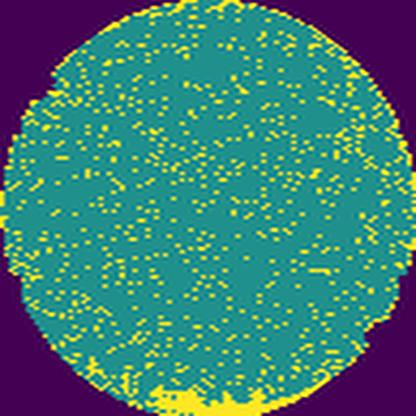Edge-Loc: (141, 363, 344, 416)
